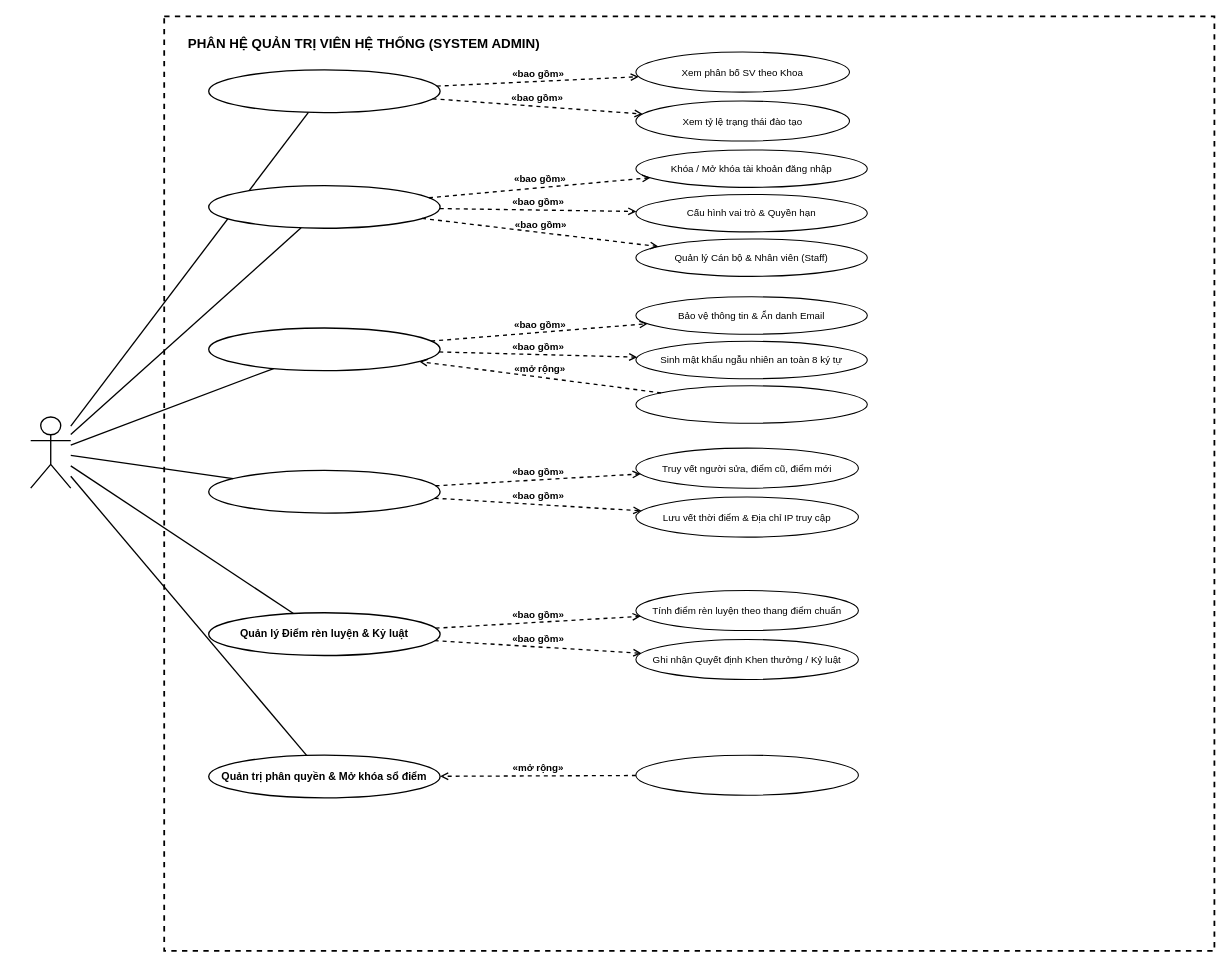
The diagram is 1231 pixels wide and 967 high, and some of its shapes have lost their labels. The centre of each missing label's shape, as x and y in pixels:
Báo cáo thống kê toàn trường & Dashboard: (324,91)
Giám sát Nhật ký Kiểm toán Điểm số: (324,491)
Mở khóa sổ điểm đã quá hạn 7 ngày: (746,774)
Quản lý Tài khoản & Phân quyền RBAC: (324,206)
Quản trị & Phê duyệt cấp lại Mật khẩu: (324,349)
Quản trị viên hệ thống: (50,452)
Đặt lại mật khẩu toàn trường (ddmmyyyya@): (751,404)
